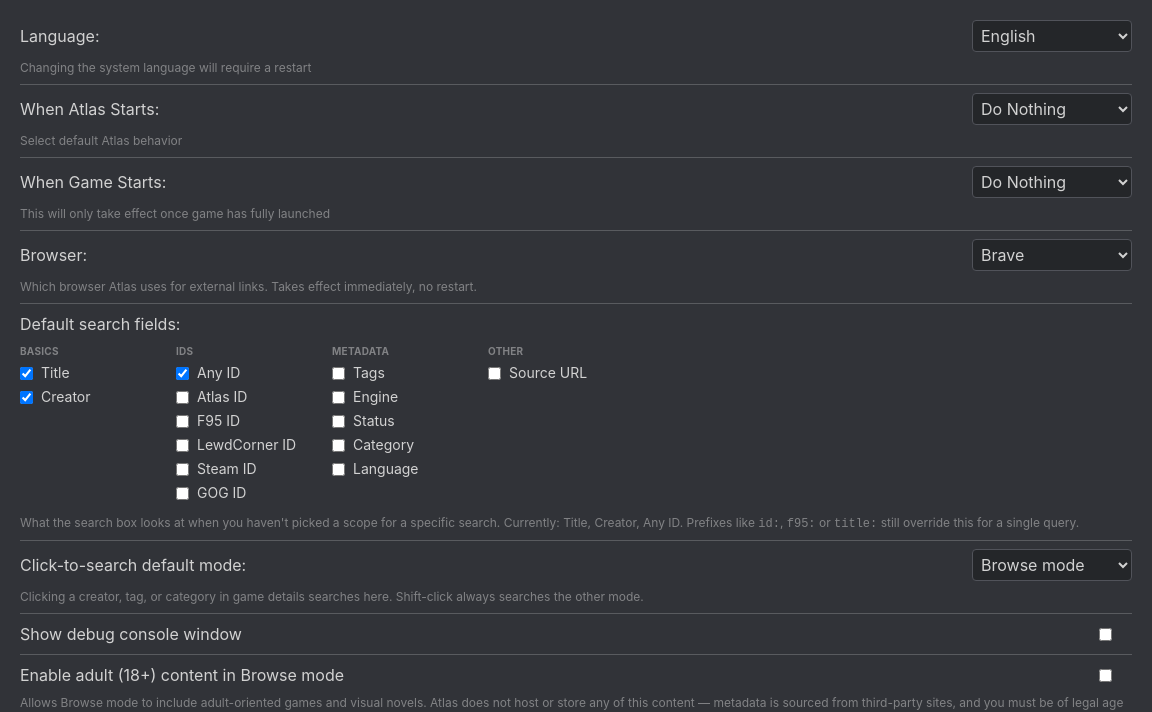
picking a custom exe appends, selects, and saves it
This screenshot has width=1152, height=712.
Select "Add custom..." in the dropdown showing "Brave" in the row of "Browser:" at (1052, 255), box [972,239,1132,271]
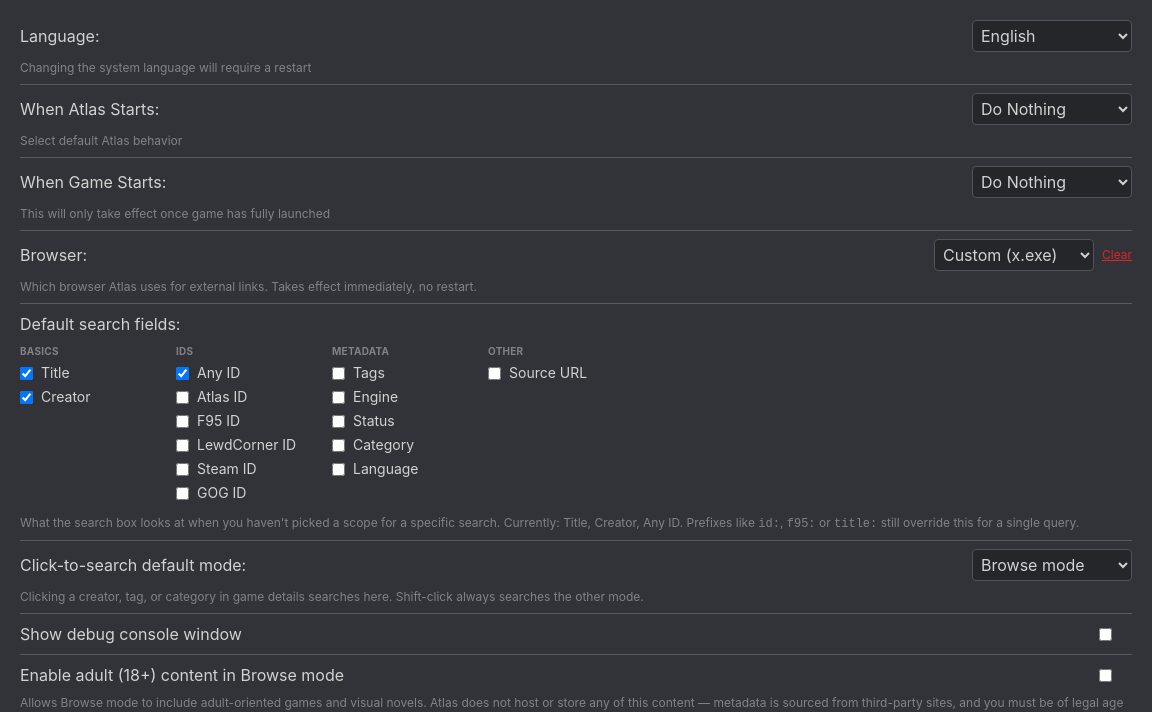
Now the button "Clear" is shown, box [1102,247,1132,263]
